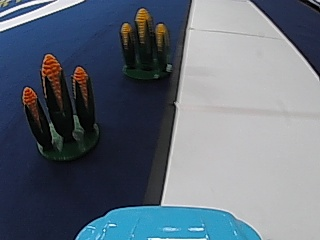corn: (21, 50, 102, 162), (117, 6, 174, 80)
